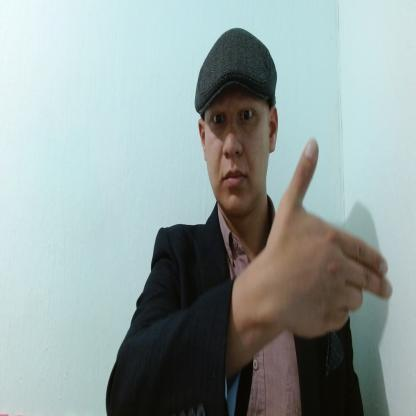H: (266, 139, 394, 339)
